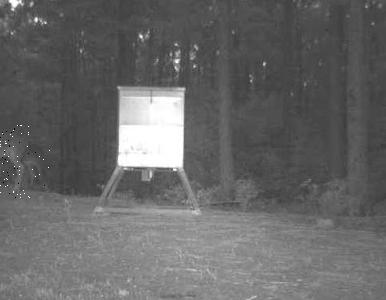Deer: (0, 125, 32, 198), (20, 136, 50, 192)
